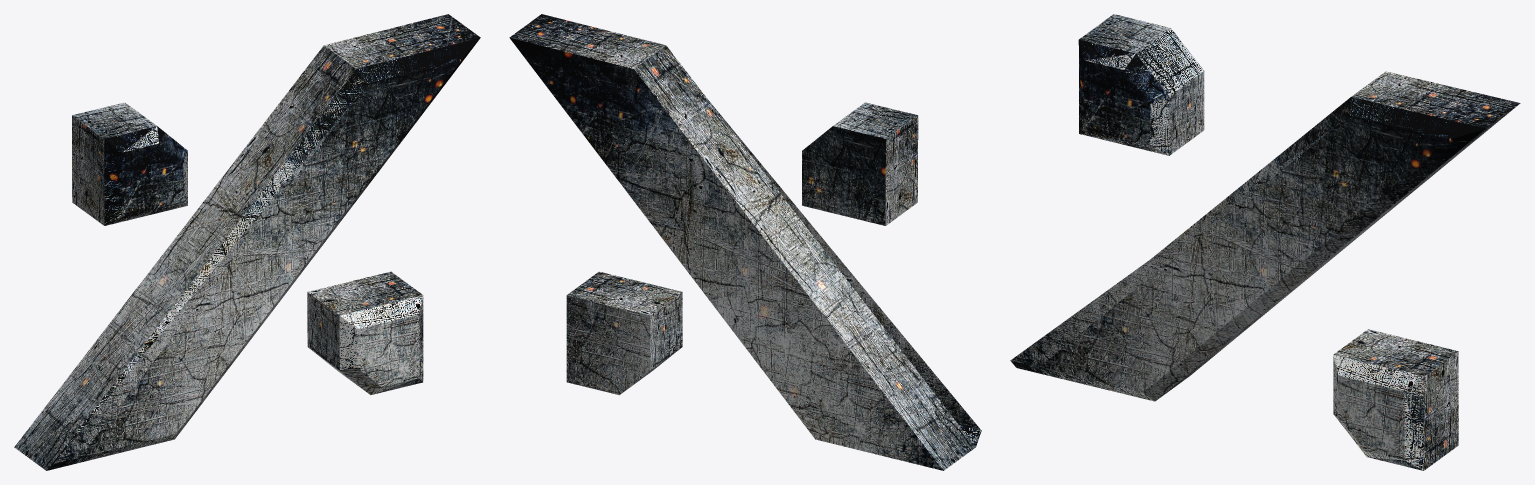
File: Interest.FBX
3 views of the same model, side by side, from view 1: azimuth 30°, elevation 25°; view 2: azimuth 150°, elevation 25°; view 3: azimuth 330°, elevation 25° (orthographic). The views are drawn at different scales.
Parts seen in each view (by area): view 1: Interest; view 2: Interest; view 3: Interest.
Boxes of the visible parts, left/top/right/bottom form: Interest: left=14, top=14, right=480, bottom=470; Interest: left=509, top=14, right=981, bottom=470; Interest: left=1010, top=14, right=1520, bottom=470.
Size of the model in its own units: 77.58 by 56.44 by 12.
1 material, 1 textured.
